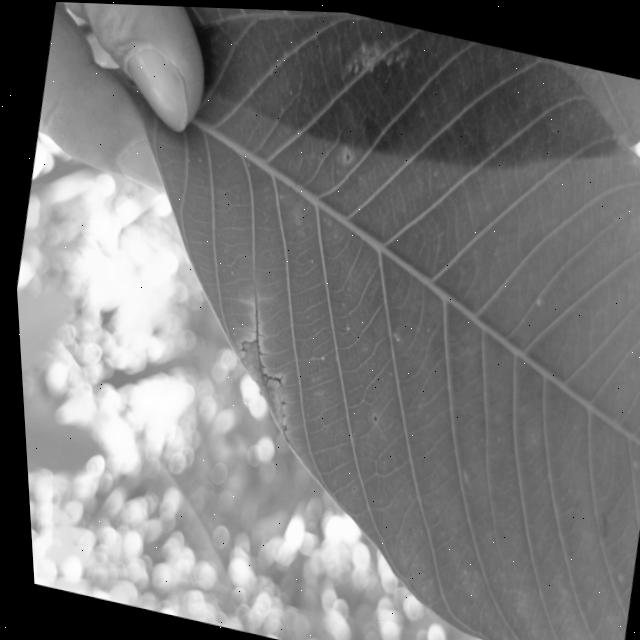Corynespora: (235, 284, 270, 340)
Leaf-Blight: (221, 334, 296, 436)
